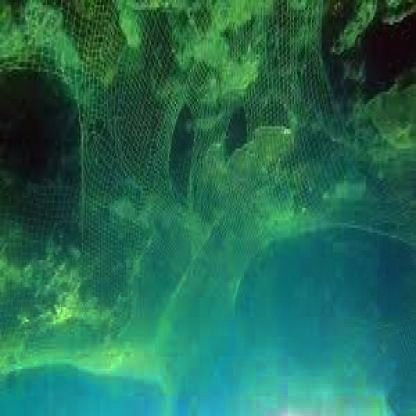net: (79, 2, 326, 310)
